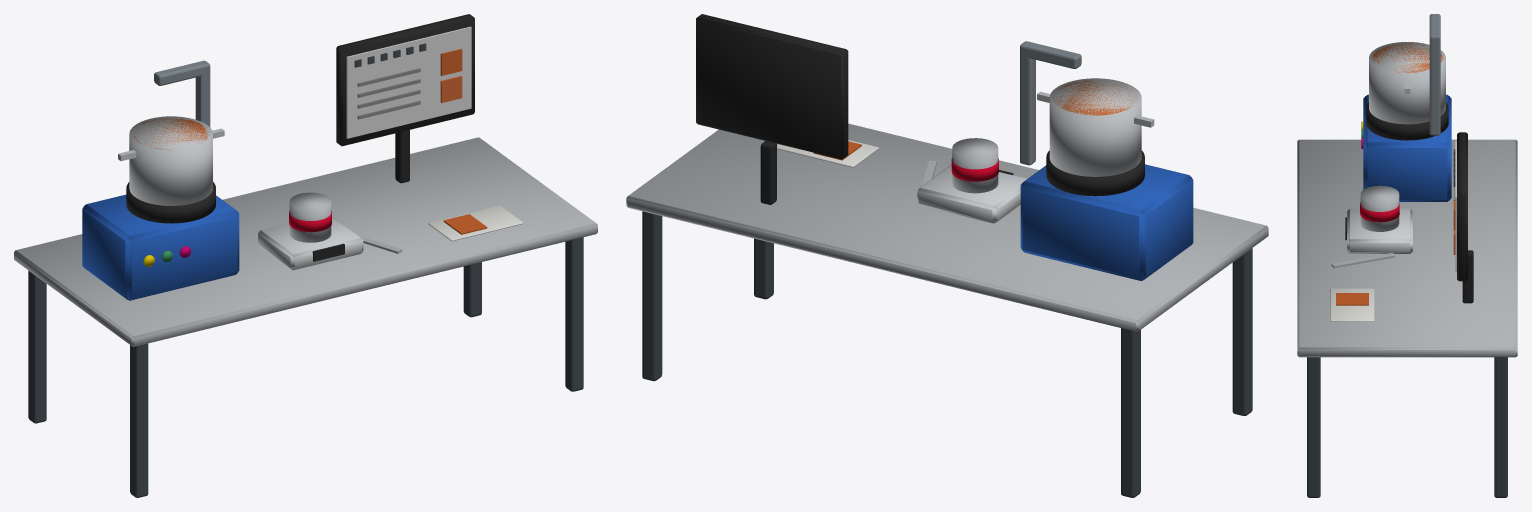
The model's file is m_inkstation.glb.
3 renders of one model, left to right at view 1: azimuth 30°, elevation 25°; view 2: azimuth 150°, elevation 25°; view 3: azimuth 270°, elevation 25°, orthographic. The views are drawn at different scales.
Visible parts, largest first — view 1: m_inkstation; view 2: m_inkstation; view 3: m_inkstation.
Part boxes in pixels (bbox=[...]): m_inkstation: bbox=[14, 14, 597, 497]; m_inkstation: bbox=[626, 14, 1268, 497]; m_inkstation: bbox=[1297, 14, 1517, 497].
Bounding box in the file's own units: 0.9 × 0.65 × 0.4.
